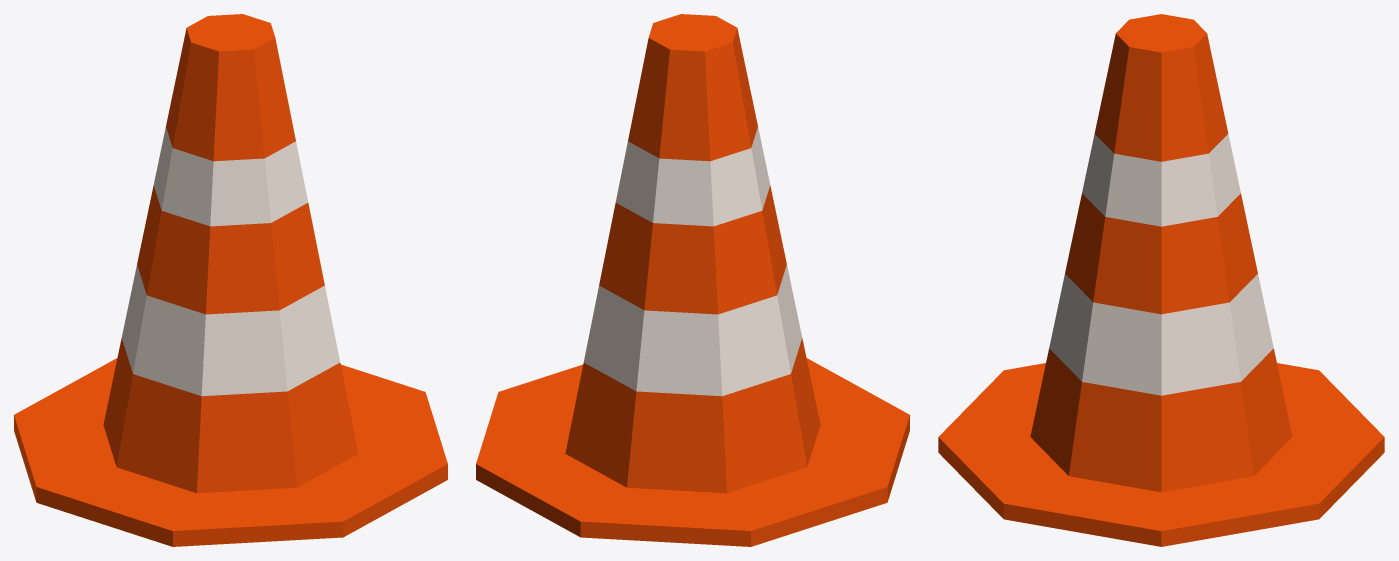
Rendered from TrafficCone.fbx.
3 renders of one model, left to right at view 1: azimuth 30°, elevation 25°; view 2: azimuth 150°, elevation 25°; view 3: azimuth 270°, elevation 25°, orthographic.
Visible parts, largest first — view 1: Circle; view 2: Circle; view 3: Circle.
Part boxes in pixels (x1=…): Circle: x1=14, y1=14, x2=447, y2=546; Circle: x1=476, y1=14, x2=909, y2=546; Circle: x1=938, y1=14, x2=1384, y2=546.
Bounding box in the file's own units: 238 × 246 × 238.
